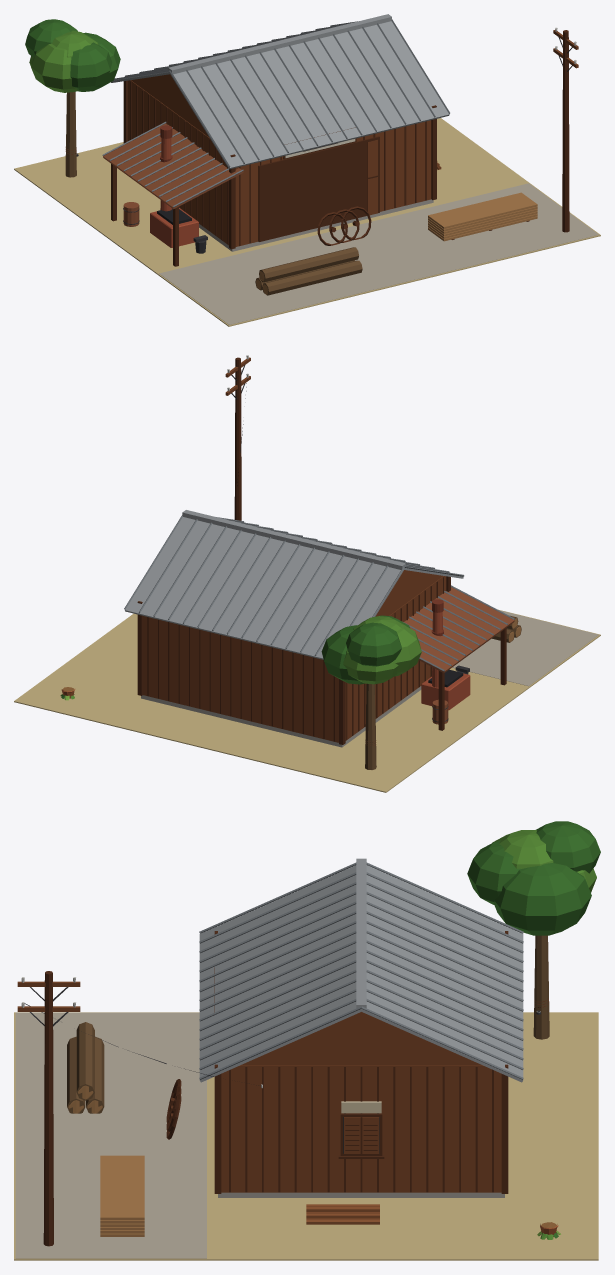
The model's file is factory_1.glb.
3 views of the same model, one above another, from view 1: azimuth 30°, elevation 25°; view 2: azimuth 150°, elevation 25°; view 3: azimuth 270°, elevation 25° (orthographic). The views are drawn at different scales.
Parts seen in each view (by area): view 1: body; view 2: body; view 3: body.
Part boxes in pixels (box(x1,y1,x2,y2)): body: box(14, 14, 600, 326); body: box(14, 355, 600, 792); body: box(14, 821, 600, 1260).
Bounding box in the file's own units: 16.06 × 8.51 × 15.96.
